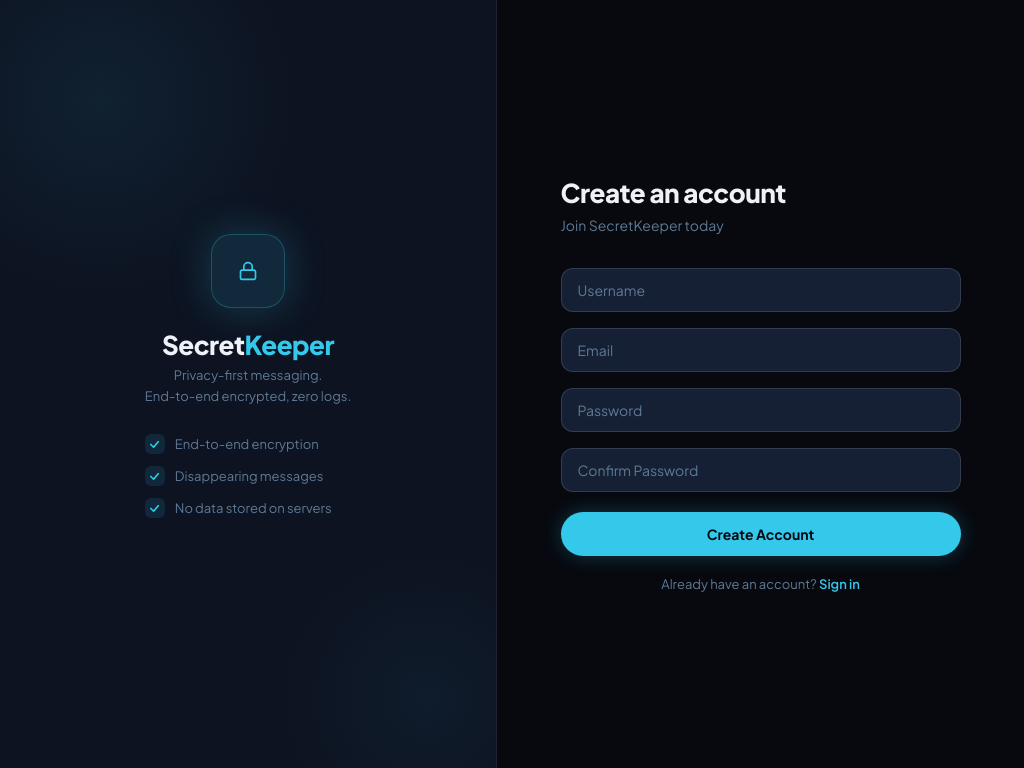
Signup username validation › rejects a username that is too short
The width and height of the screenshot is (1024, 768).
Type "Al" into the field with id "username" at [761, 290], box 561,268 -> 961,312
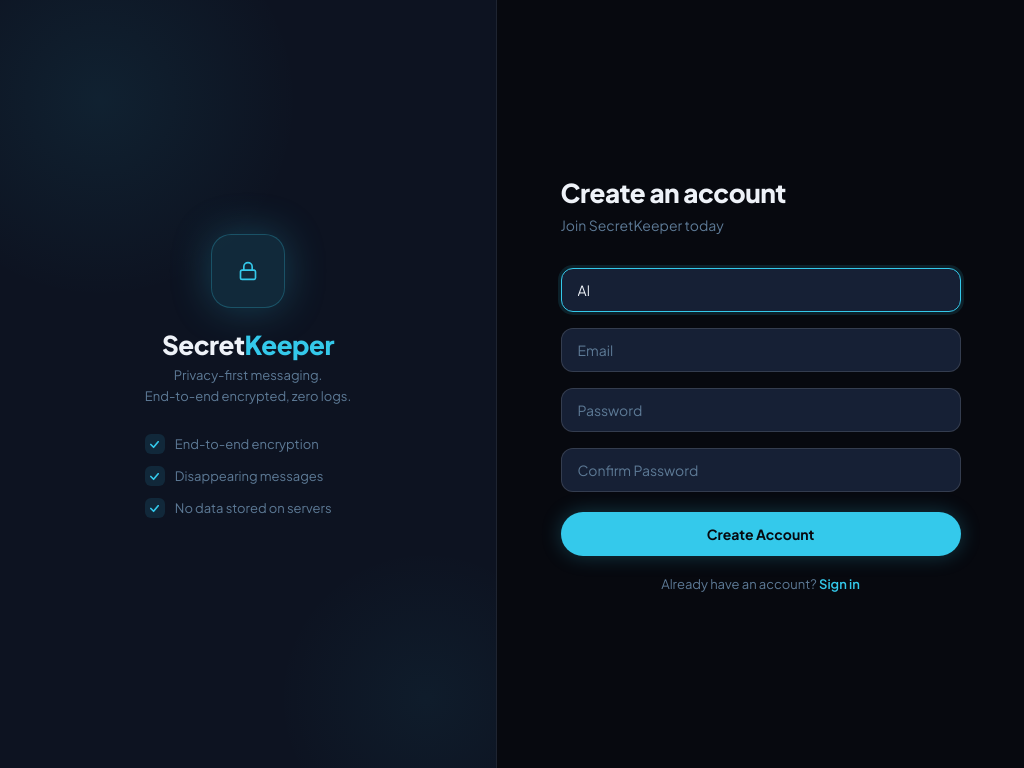
Type "alindobra@secretkeeper.com" into the field with id "email" at [761, 350], box 561,328 -> 961,372
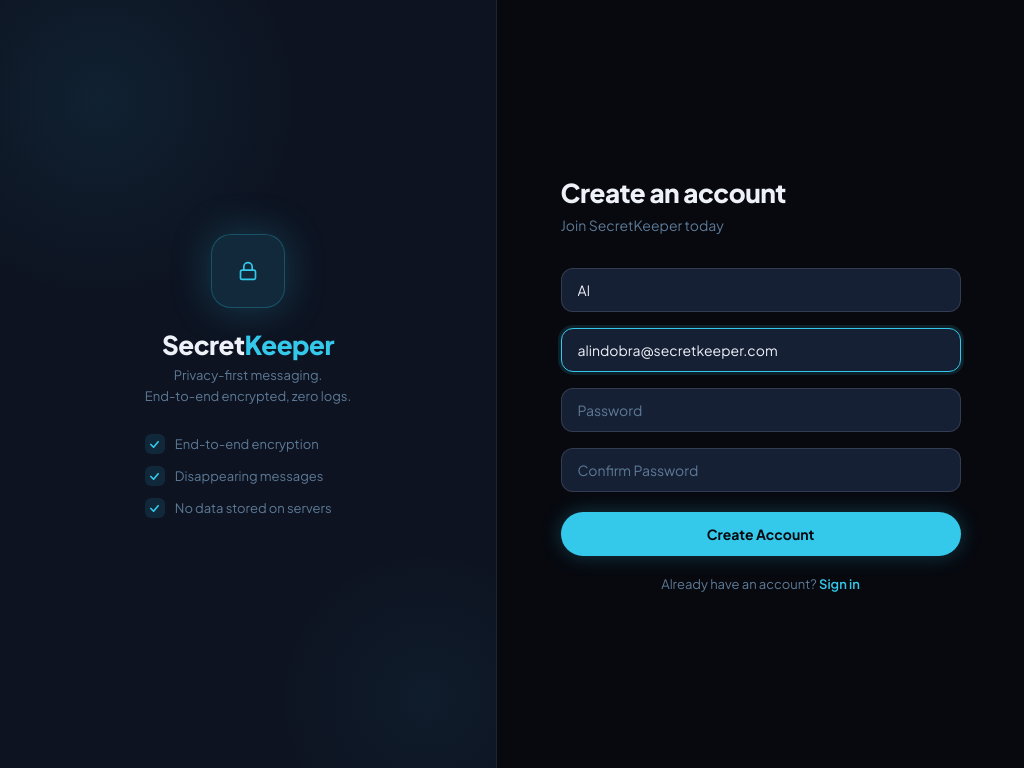
Type "password123" into the password field with placeholder "Password" at [761, 410], box 561,388 -> 961,432
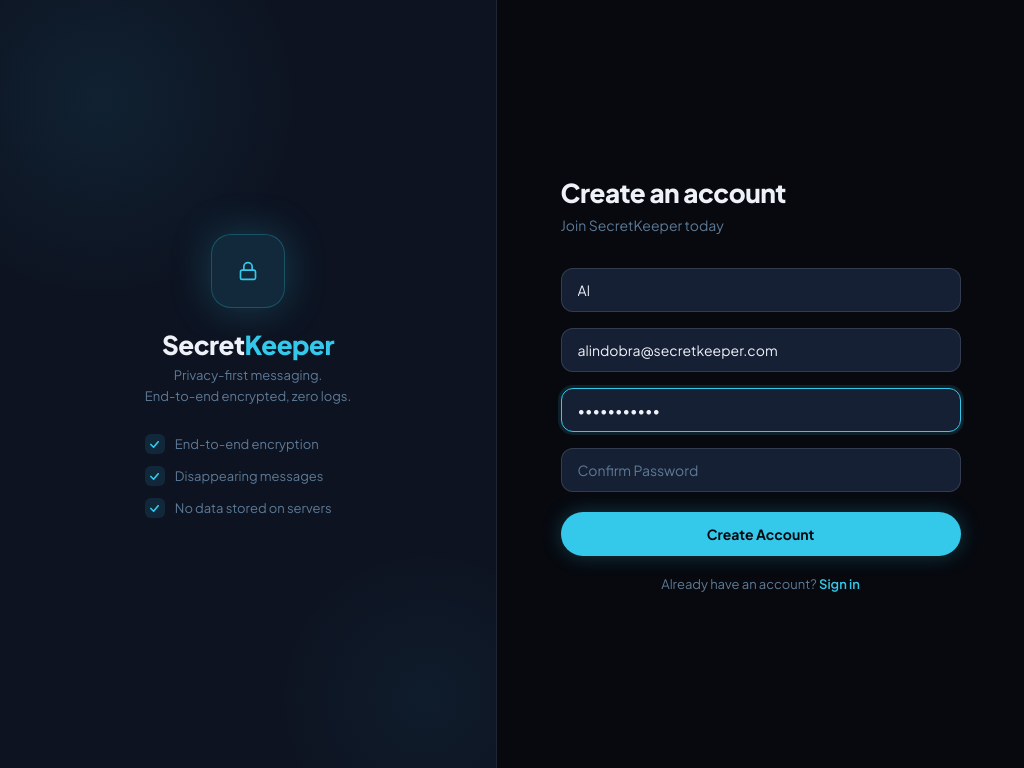
Type "password123" into the password field with id "confirmPassword" at [761, 470], box 561,448 -> 961,492
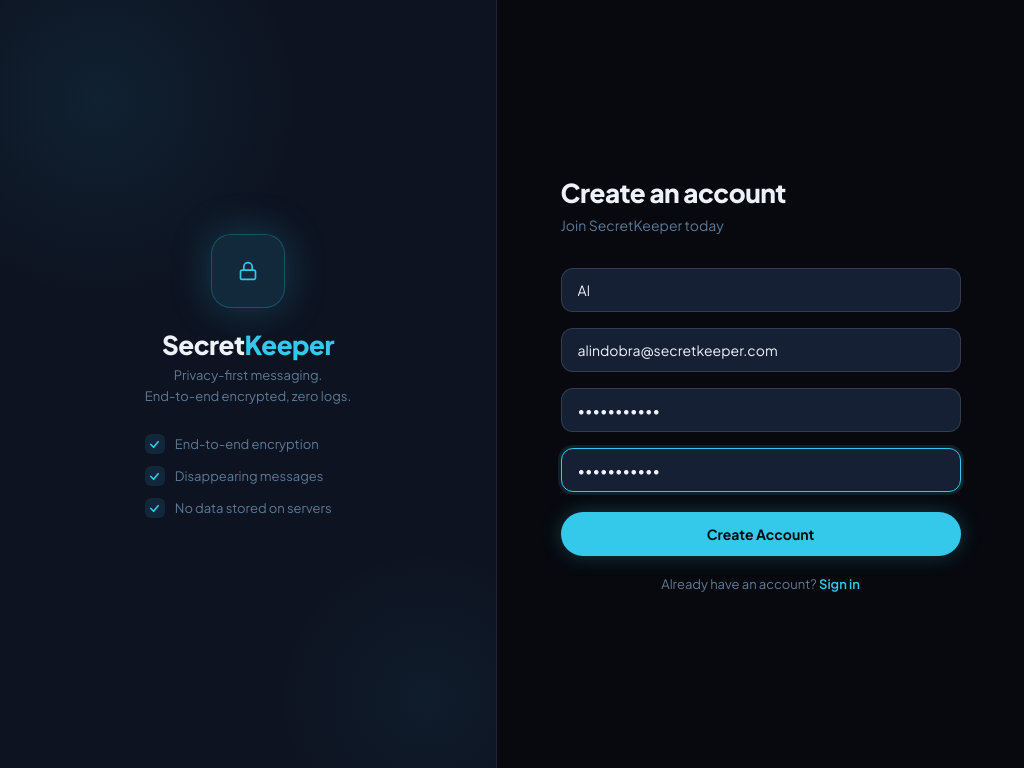
Click the button with class "signup-button" at [761, 534], box 561,512 -> 961,556
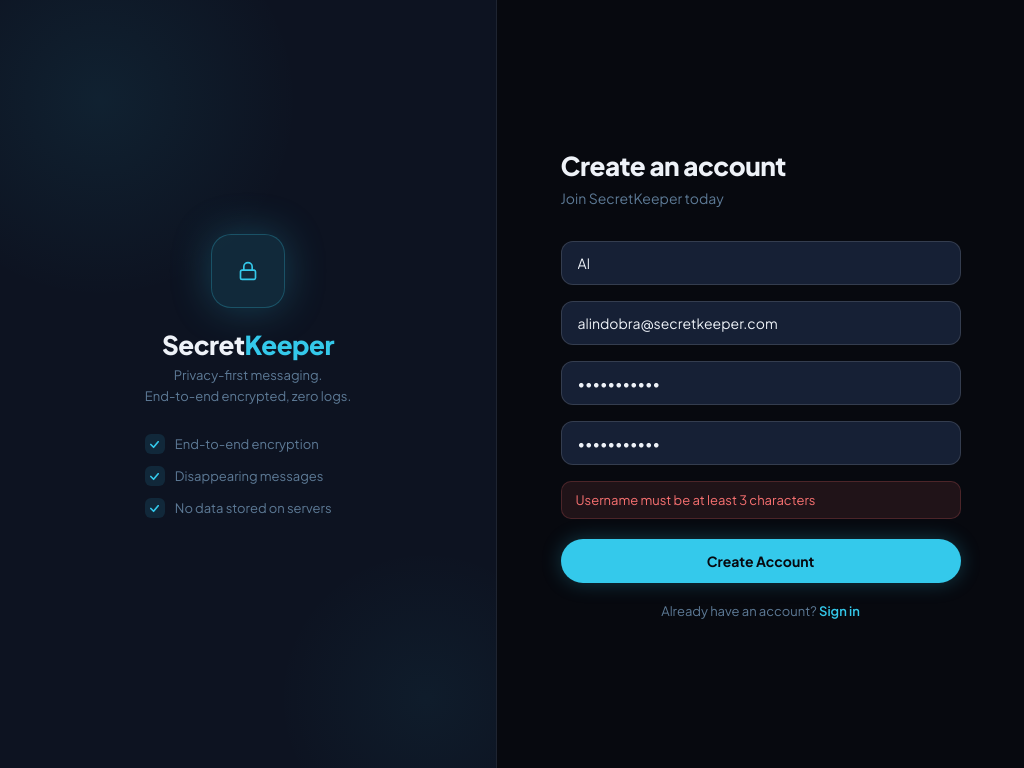
Now the text with class "error" reads "Username must be at least 3 characters", box 576,492 -> 816,508
